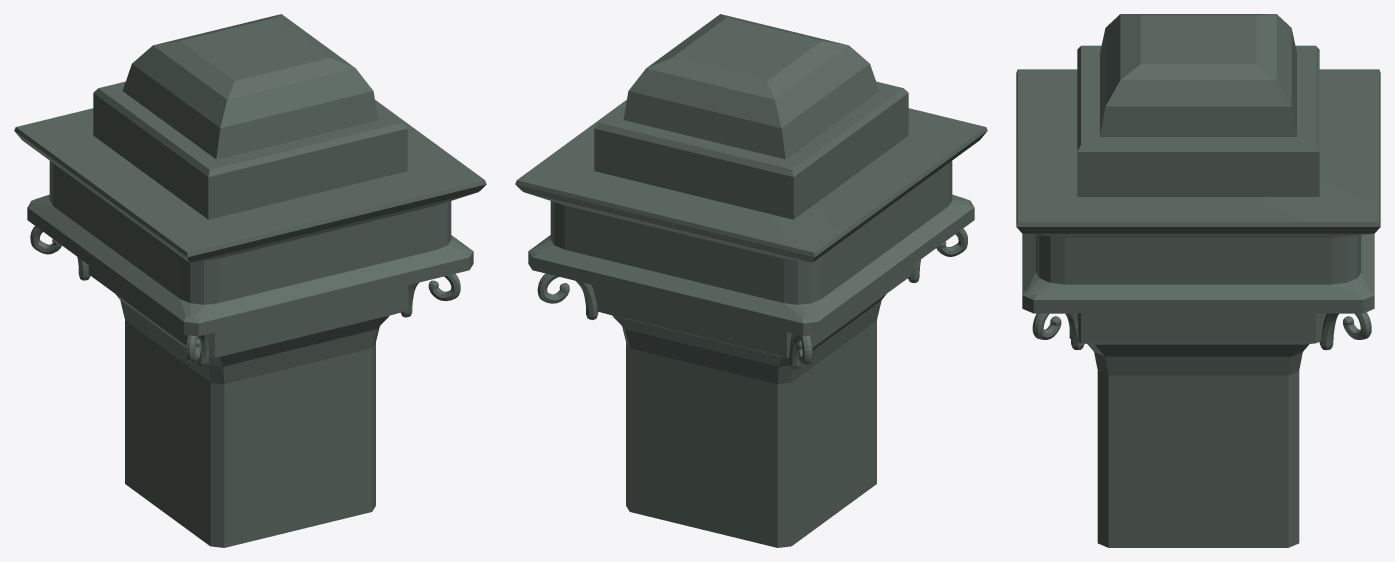
The model's file is Ruins_1a.fbx.
3 views of the same model, side by side, from view 1: azimuth 30°, elevation 25°; view 2: azimuth 150°, elevation 25°; view 3: azimuth 270°, elevation 25° (orthographic). The views are drawn at different scales.
Visible parts, largest first — view 1: Plane; view 2: Plane; view 3: Plane.
Boxes of the visible parts, left/top/right/bottom form: Plane: left=14, top=14, right=486, bottom=547; Plane: left=515, top=14, right=987, bottom=547; Plane: left=1016, top=14, right=1380, bottom=547.
Bounding box in the file's own units: 80 × 113 × 80.
